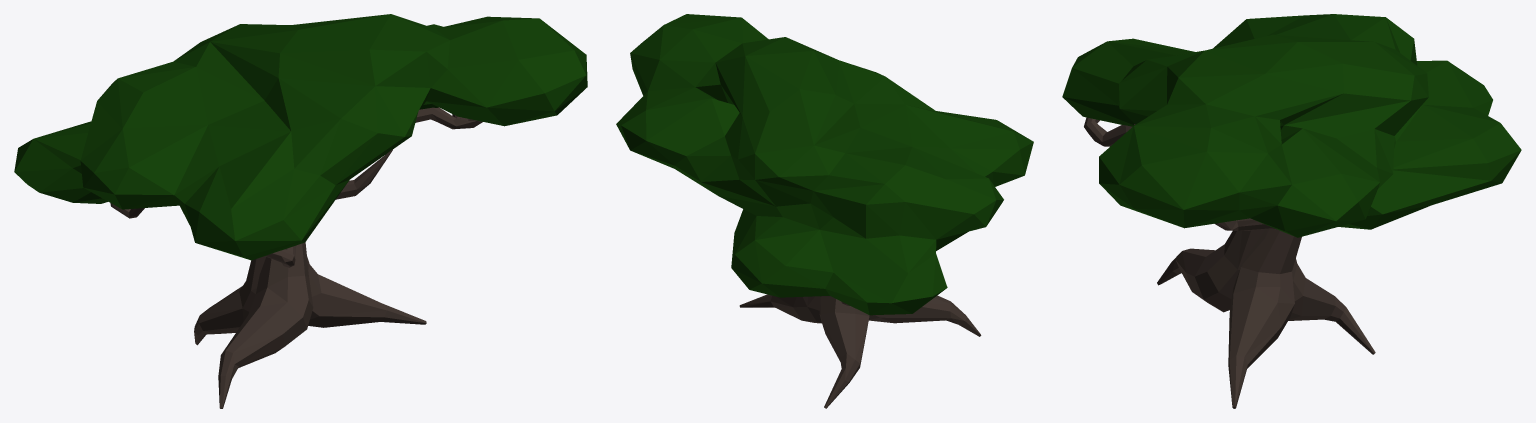
The model's file is Tree_2_Summer.fbx.
3 renders of one model, left to right at view 1: azimuth 30°, elevation 25°; view 2: azimuth 150°, elevation 25°; view 3: azimuth 270°, elevation 25°, orthographic. The views are drawn at different scales.
Parts seen in each view (by area): view 1: Tree_2_Summer; view 2: Tree_2_Summer; view 3: Tree_2_Summer.
Boxes of the visible parts, bbox=[...] form: Tree_2_Summer: bbox=[14, 14, 587, 408]; Tree_2_Summer: bbox=[616, 14, 1033, 408]; Tree_2_Summer: bbox=[1062, 14, 1521, 408].
Size of the model in its own units: 971 by 683 by 799.
